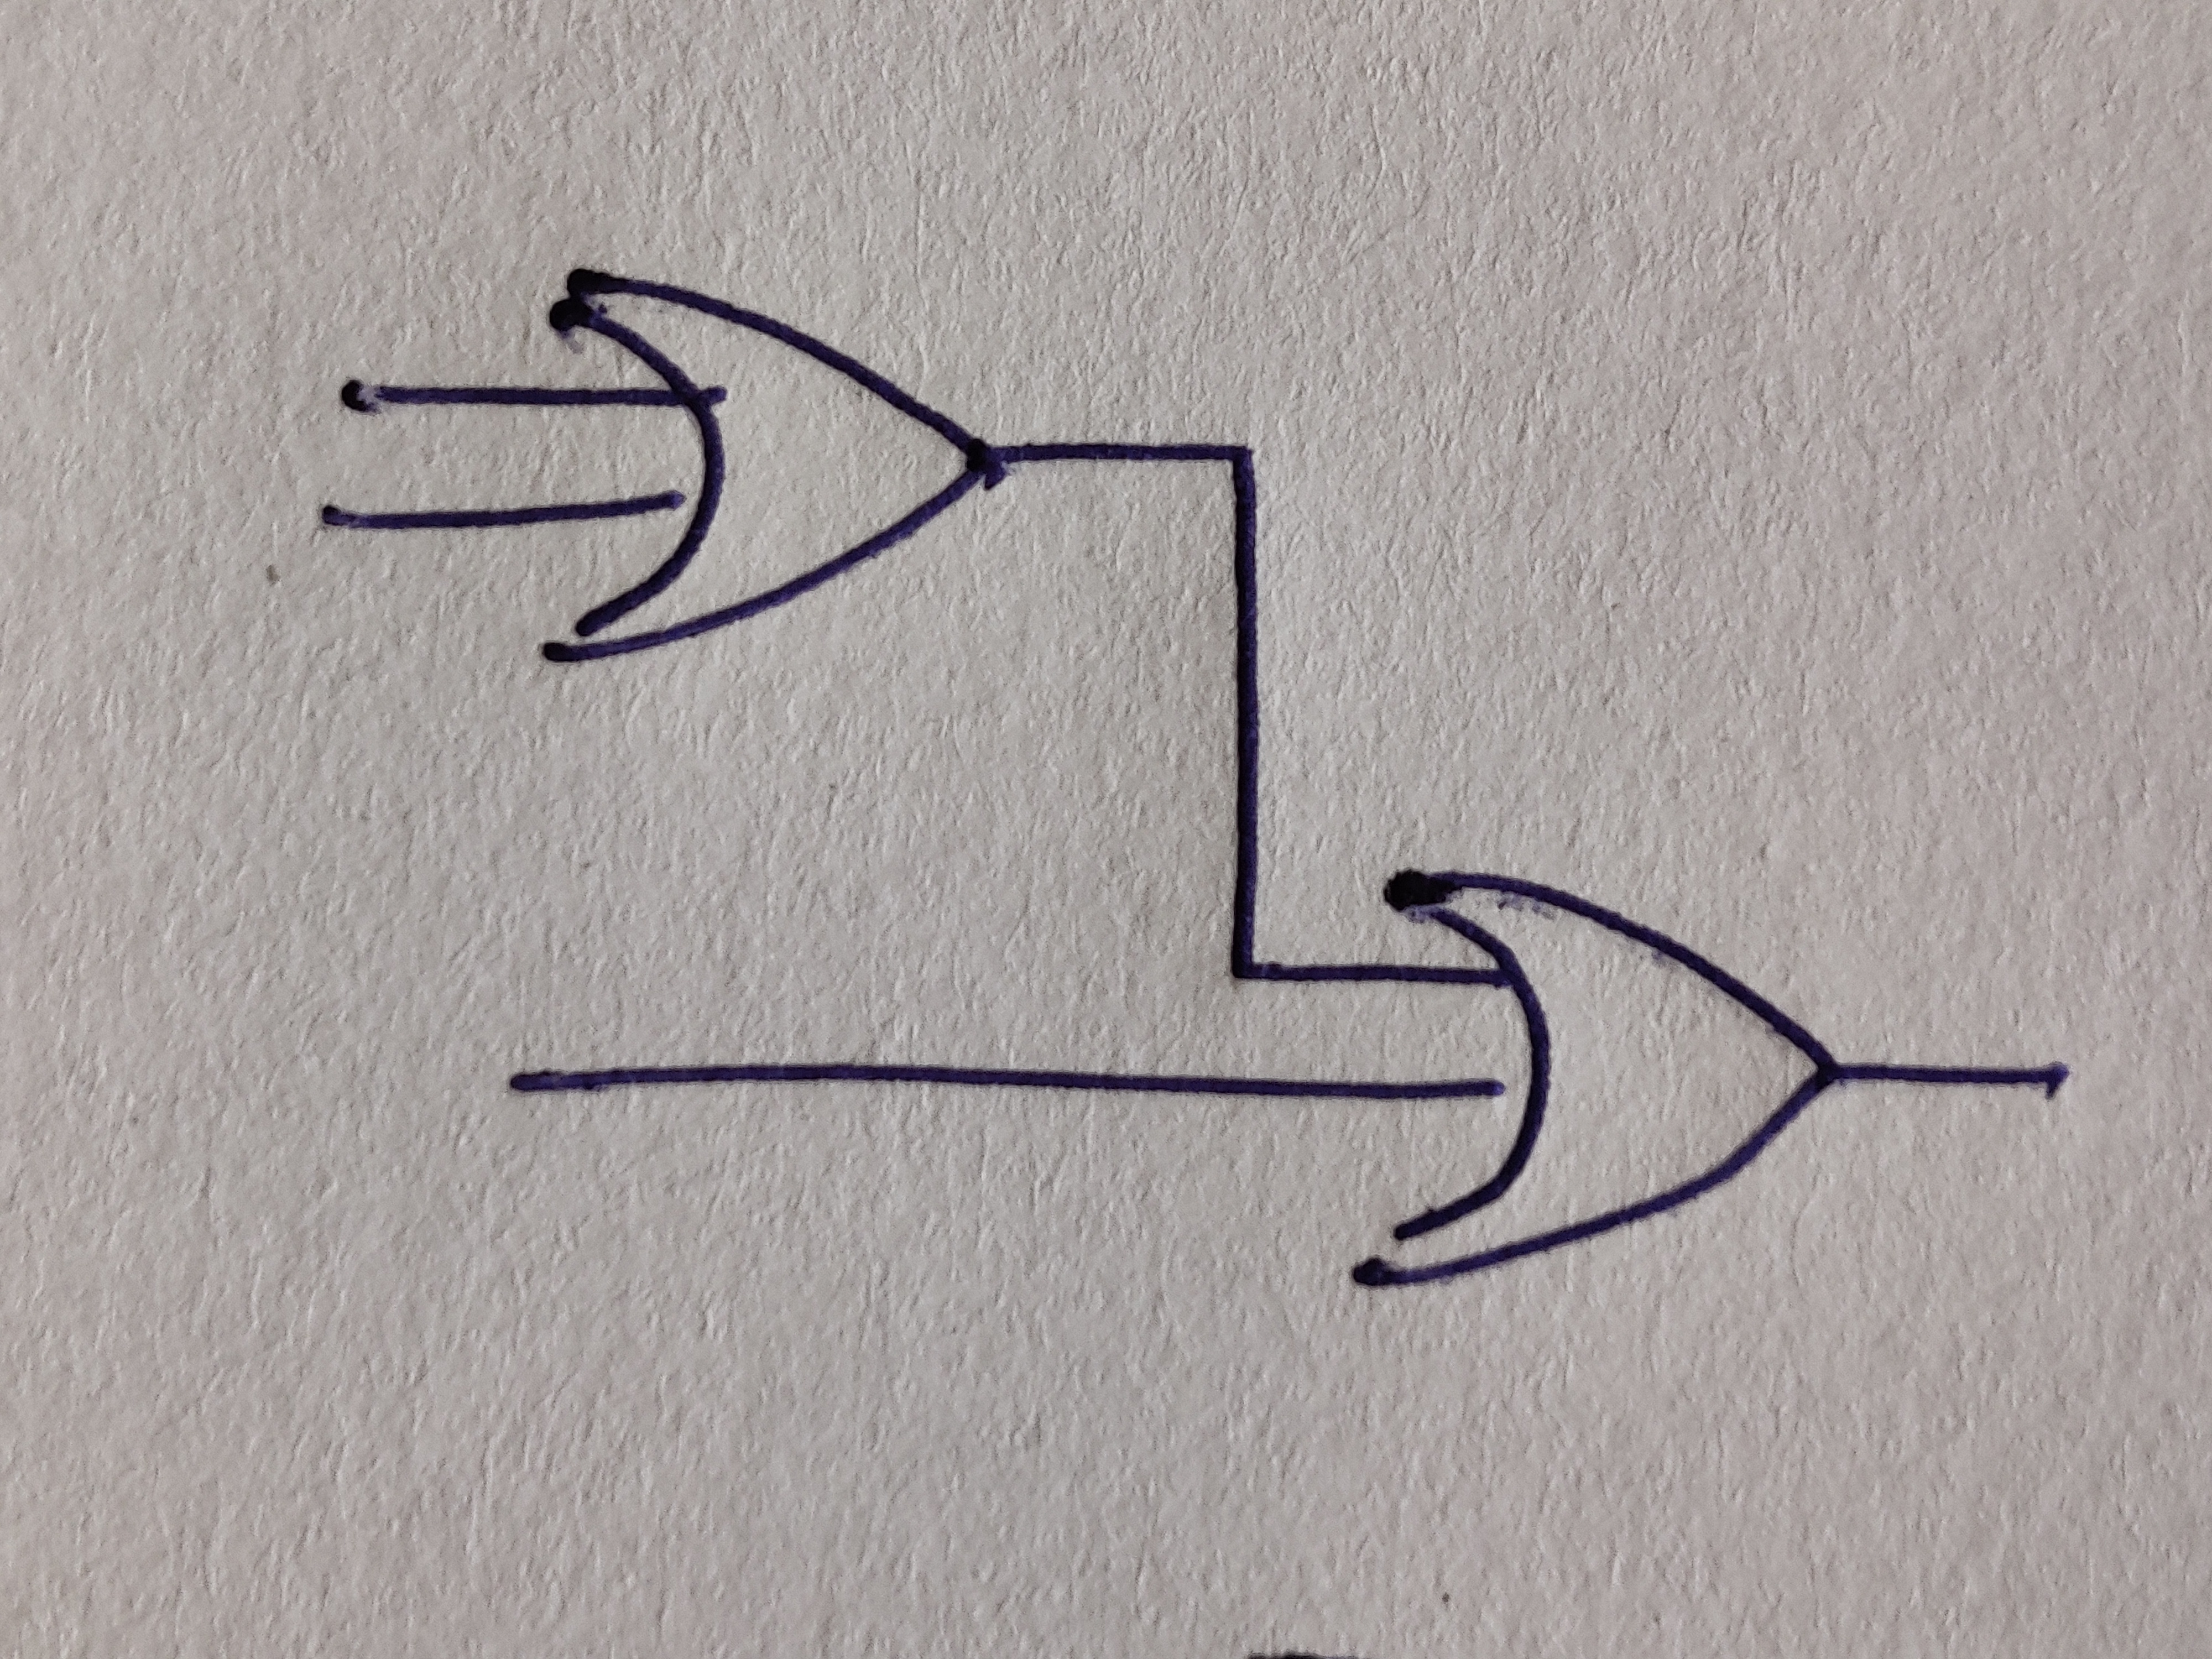or: (1352, 870, 1838, 1290), (542, 268, 1007, 662)
